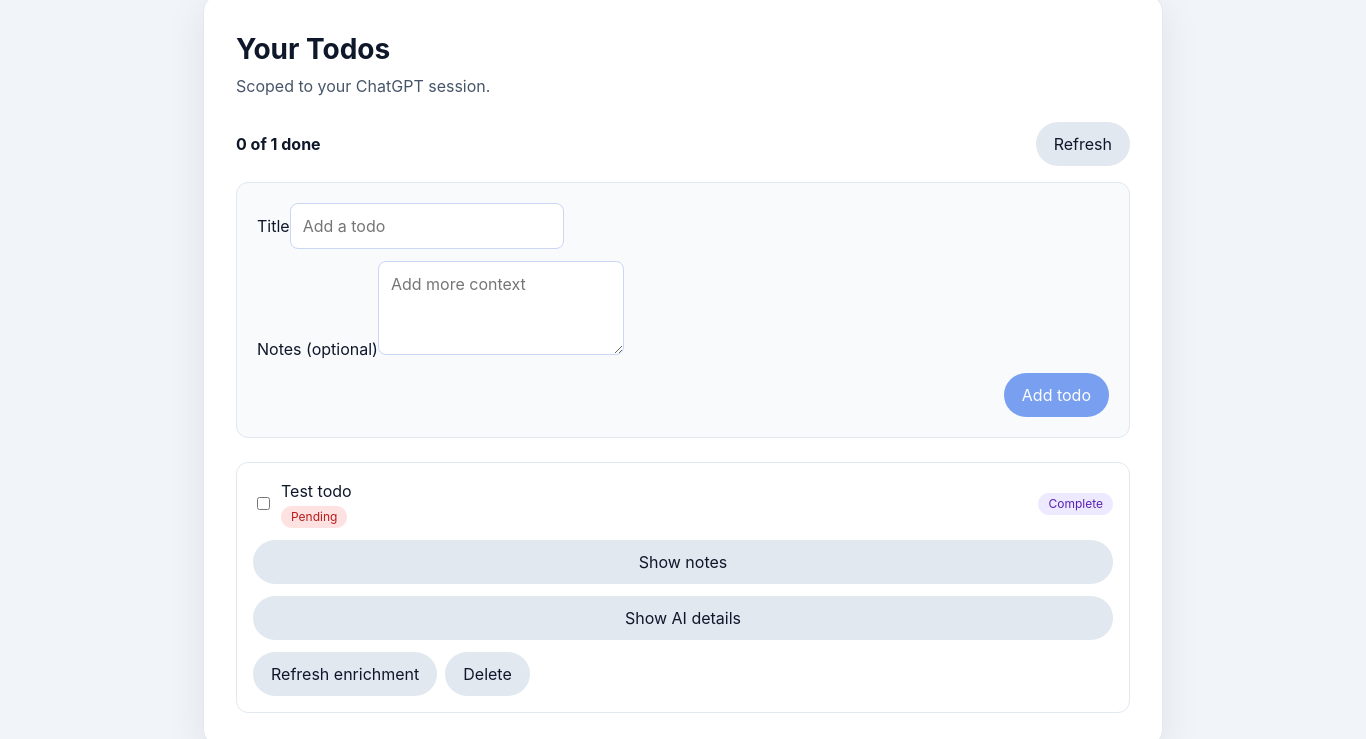
Test: TodoApp › renders todo list and AI details
This screenshot has width=1366, height=739.
Step 1. Click the button "Show AI details" → [683, 618], box [253,596,1113,640]
(page scrolled)
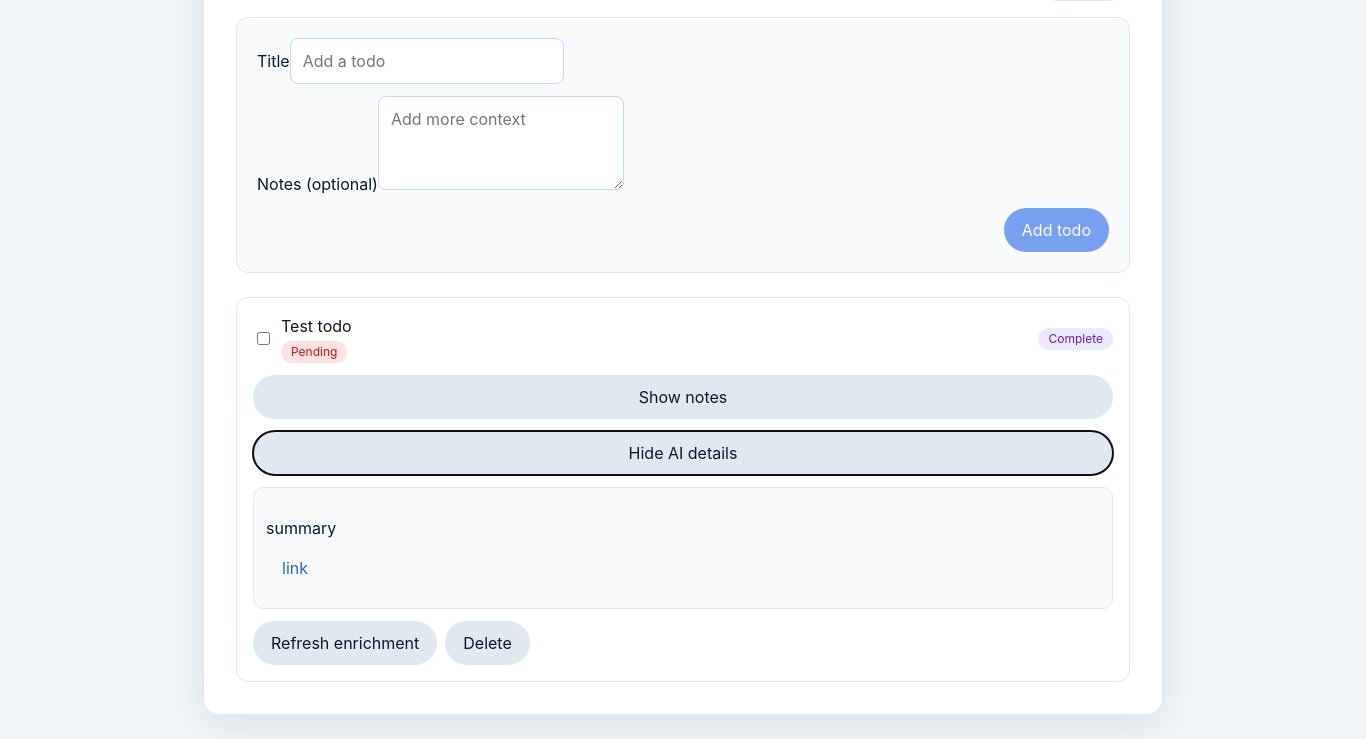
Expected: the text "summary" is shown, [266,518,336,538]
